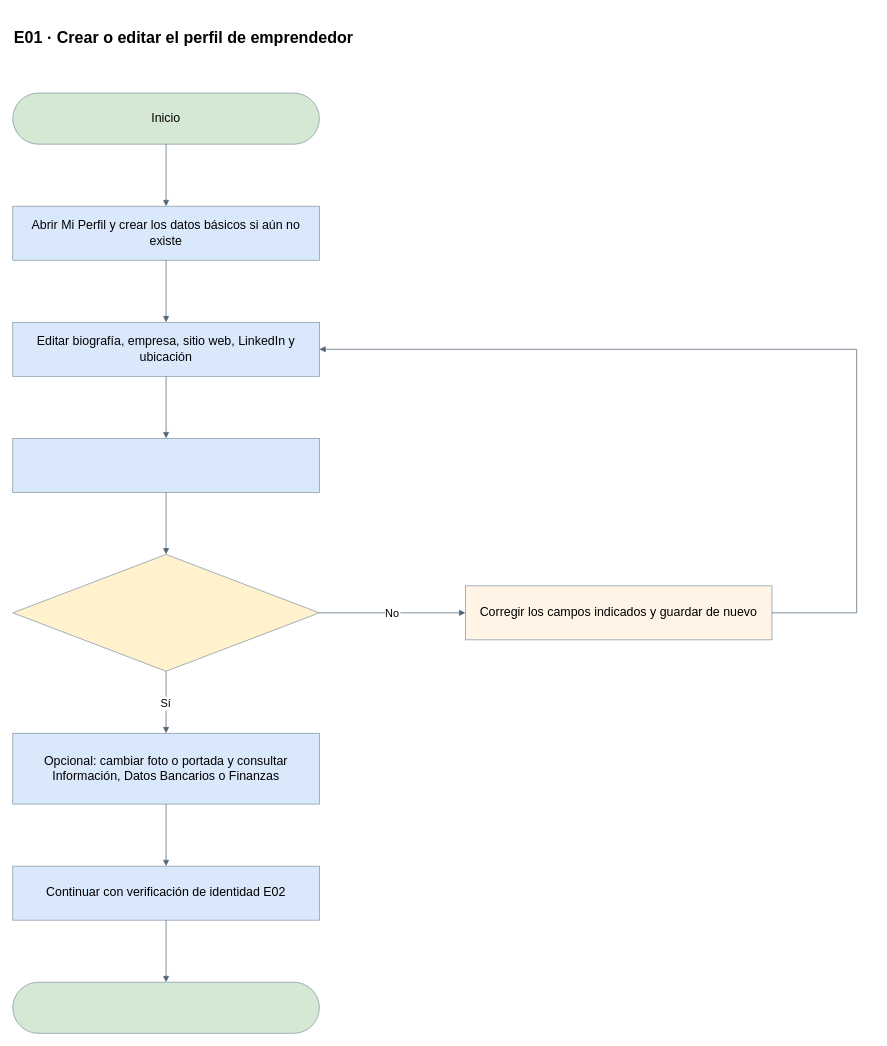
Some shapes in this 887 by 1046 pixel diagram are drawn without their labels. The shapes that lost their labels are listed below. From the top down, each one's centre as x and y in pixels, then its label:
At (x=165, y=465): "Guardar cada sección; completar también los datos bancarios si corresponde".
At (x=165, y=612): "¿Los datos se guardaron?".
At (x=165, y=1007): "Fin".
